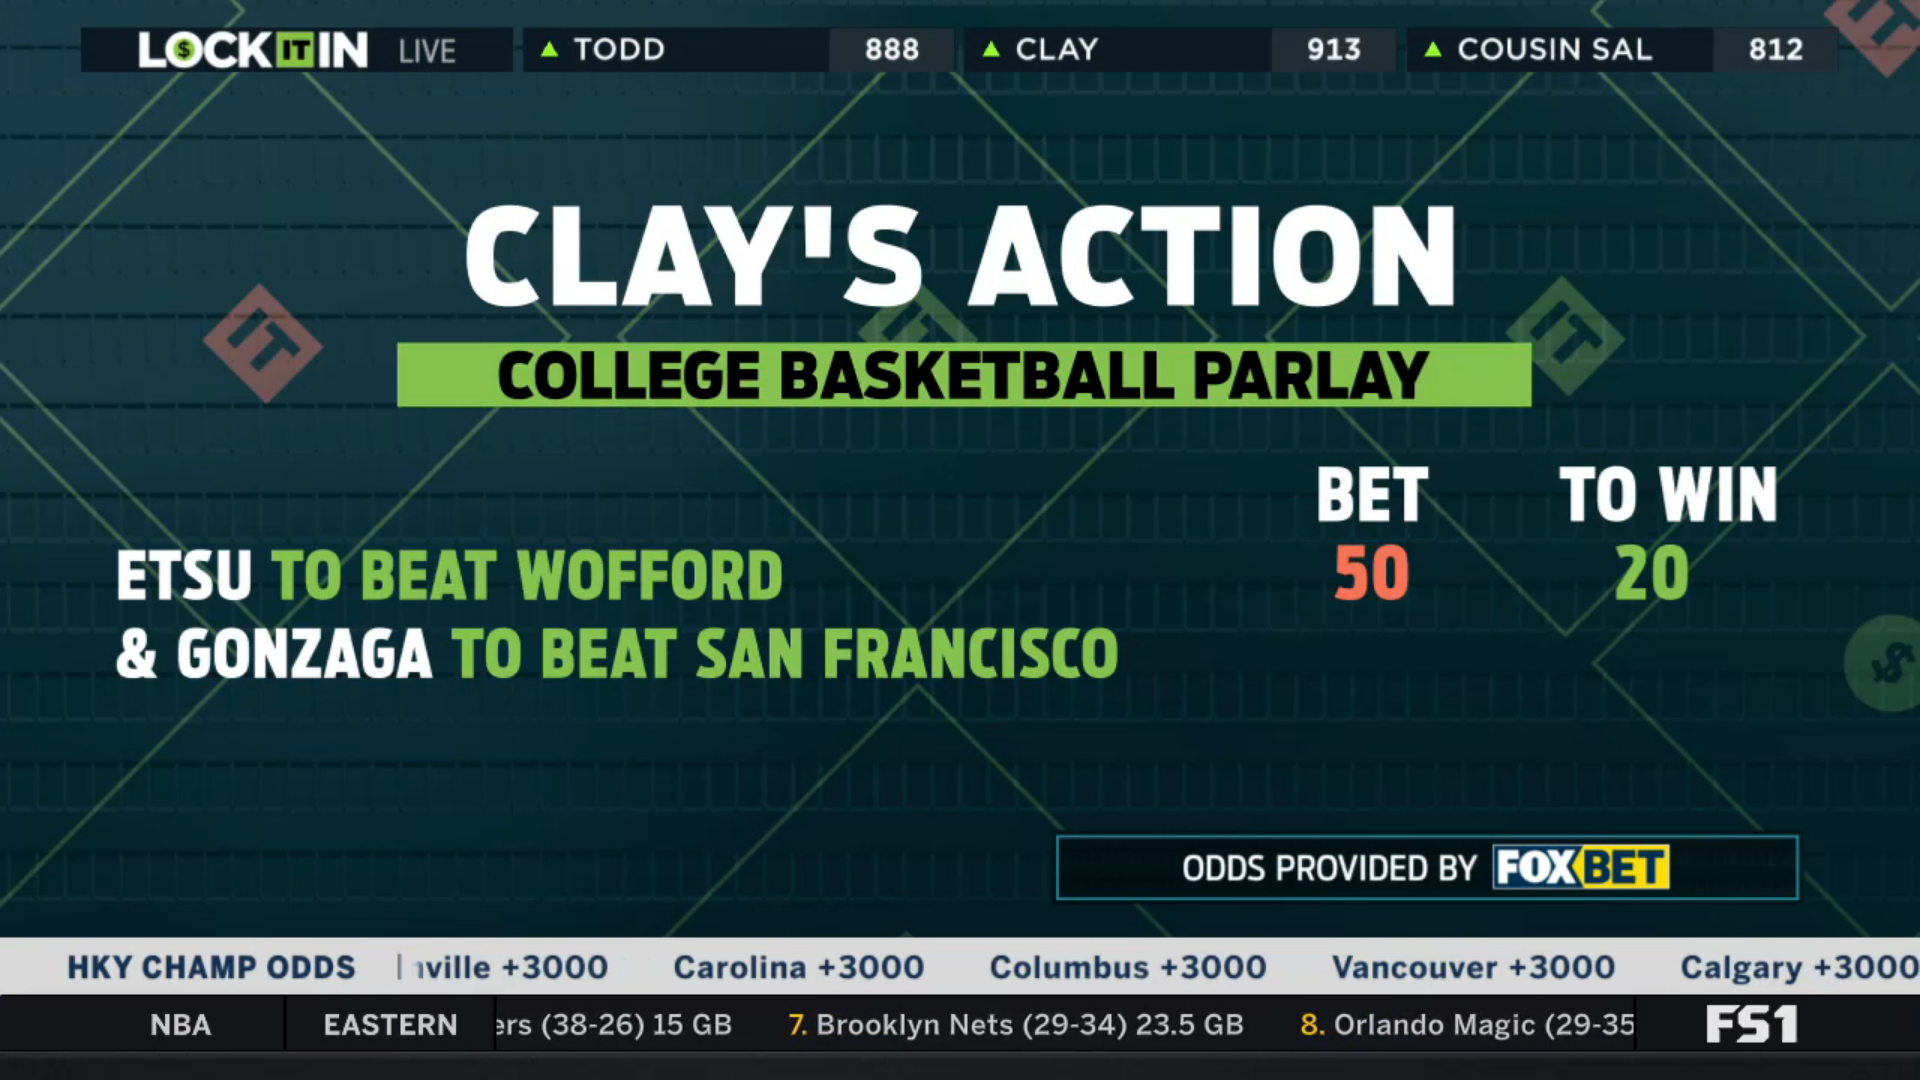Bet: (99, 533, 1135, 696)
Bet Amount: (1304, 456, 1437, 609)
Subtitle: (382, 335, 1551, 415)
Title: (455, 189, 1476, 320)
To Win: (1544, 452, 1789, 613)
Top Bar: (73, 17, 1847, 84)
